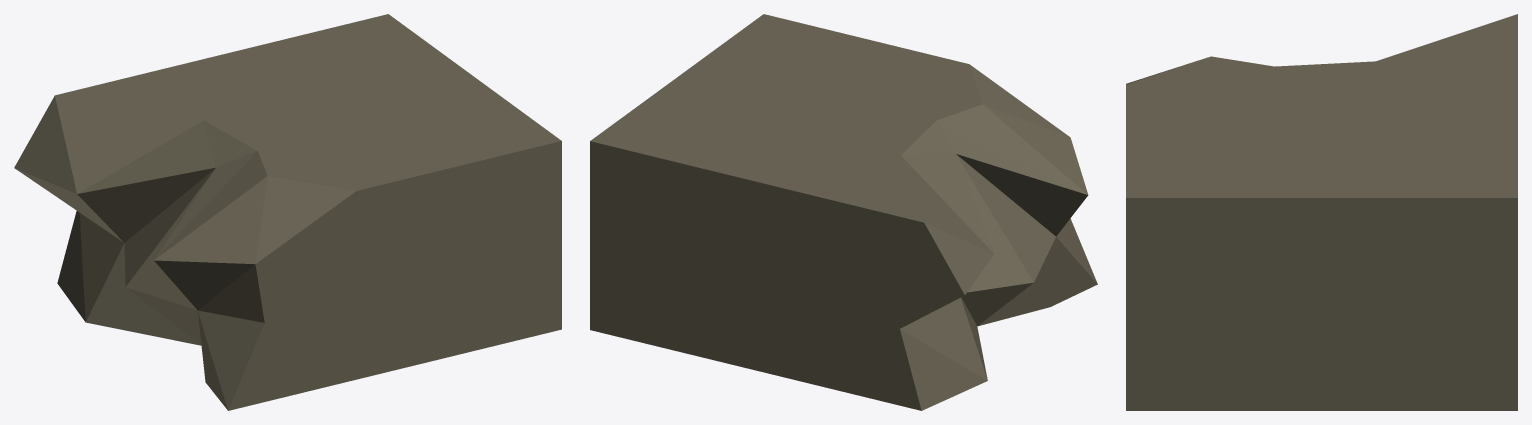
The model's file is Brick2.fbx.
The picture shows the model from 3 angles, left to right: view 1: azimuth 30°, elevation 25°; view 2: azimuth 150°, elevation 25°; view 3: azimuth 270°, elevation 25°; orthographic projection. The views are drawn at different scales.
Visible parts, largest first — view 1: Brick2; view 2: Brick2; view 3: Brick2.
Part boxes in pixels (x1,y1,x2,y2): Brick2: [14, 14, 561, 410]; Brick2: [590, 14, 1097, 410]; Brick2: [1126, 14, 1517, 410].
Bounding box in the file's own units: 62.32 × 30 × 50.
